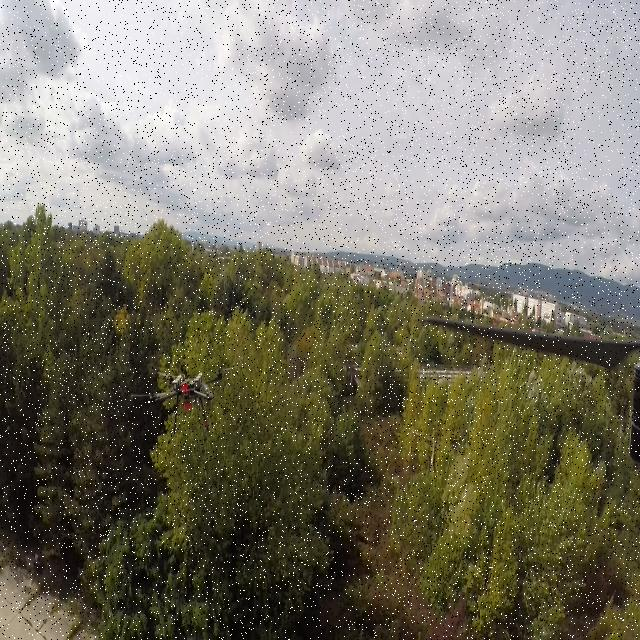UAV: (130, 362, 242, 434)
